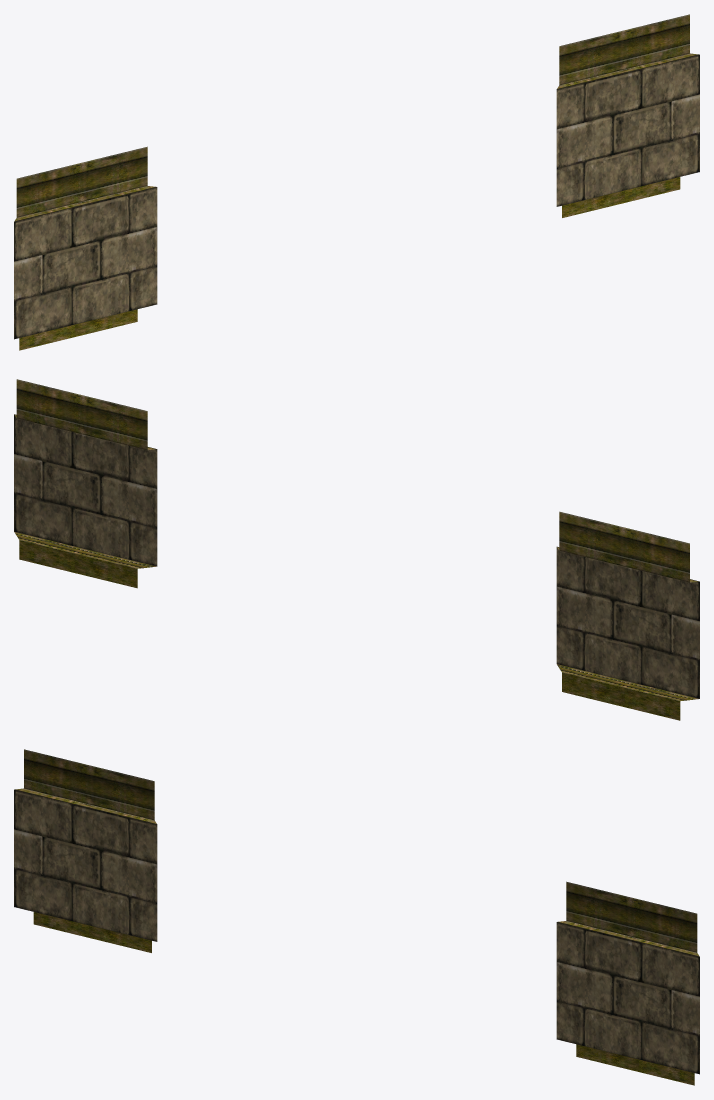
File: OVERHILL_A_01_OBJECT173.fbx
3 renders of one model, top to bottom at view 1: azimuth 30°, elevation 25°; view 2: azimuth 150°, elevation 25°; view 3: azimuth 330°, elevation 25°, orthographic.
Visible parts, largest first — view 1: OVERHILL_A_01_OBJECT173; view 2: OVERHILL_A_01_OBJECT173; view 3: OVERHILL_A_01_OBJECT173.
Part boxes in pixels (x1=…): OVERHILL_A_01_OBJECT173: x1=14, y1=14, x2=699, y2=350; OVERHILL_A_01_OBJECT173: x1=14, y1=379, x2=699, y2=720; OVERHILL_A_01_OBJECT173: x1=14, y1=749, x2=699, y2=1085.
Bounding box in the file's own units: 110000 × 27000 × 2000.
3 materials, 3 textured.
